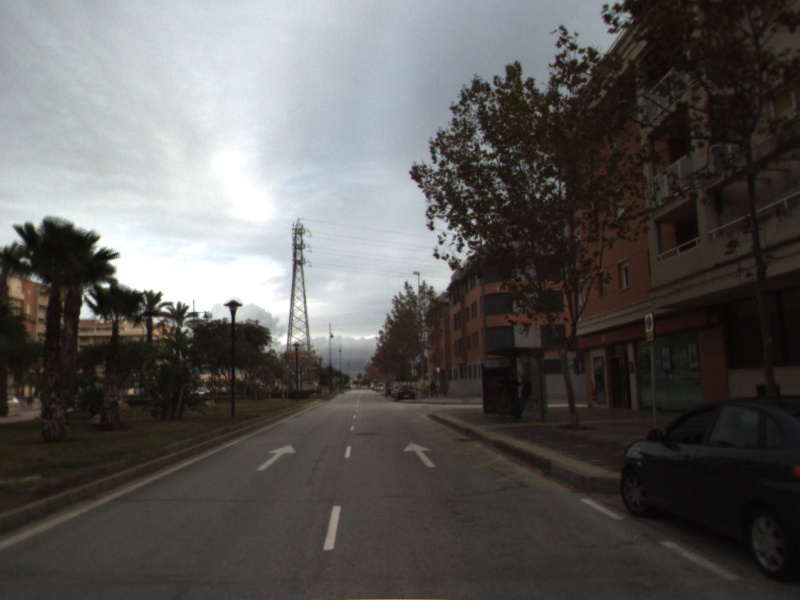STRAIGHT: (255, 442, 298, 472), (401, 440, 438, 469)
